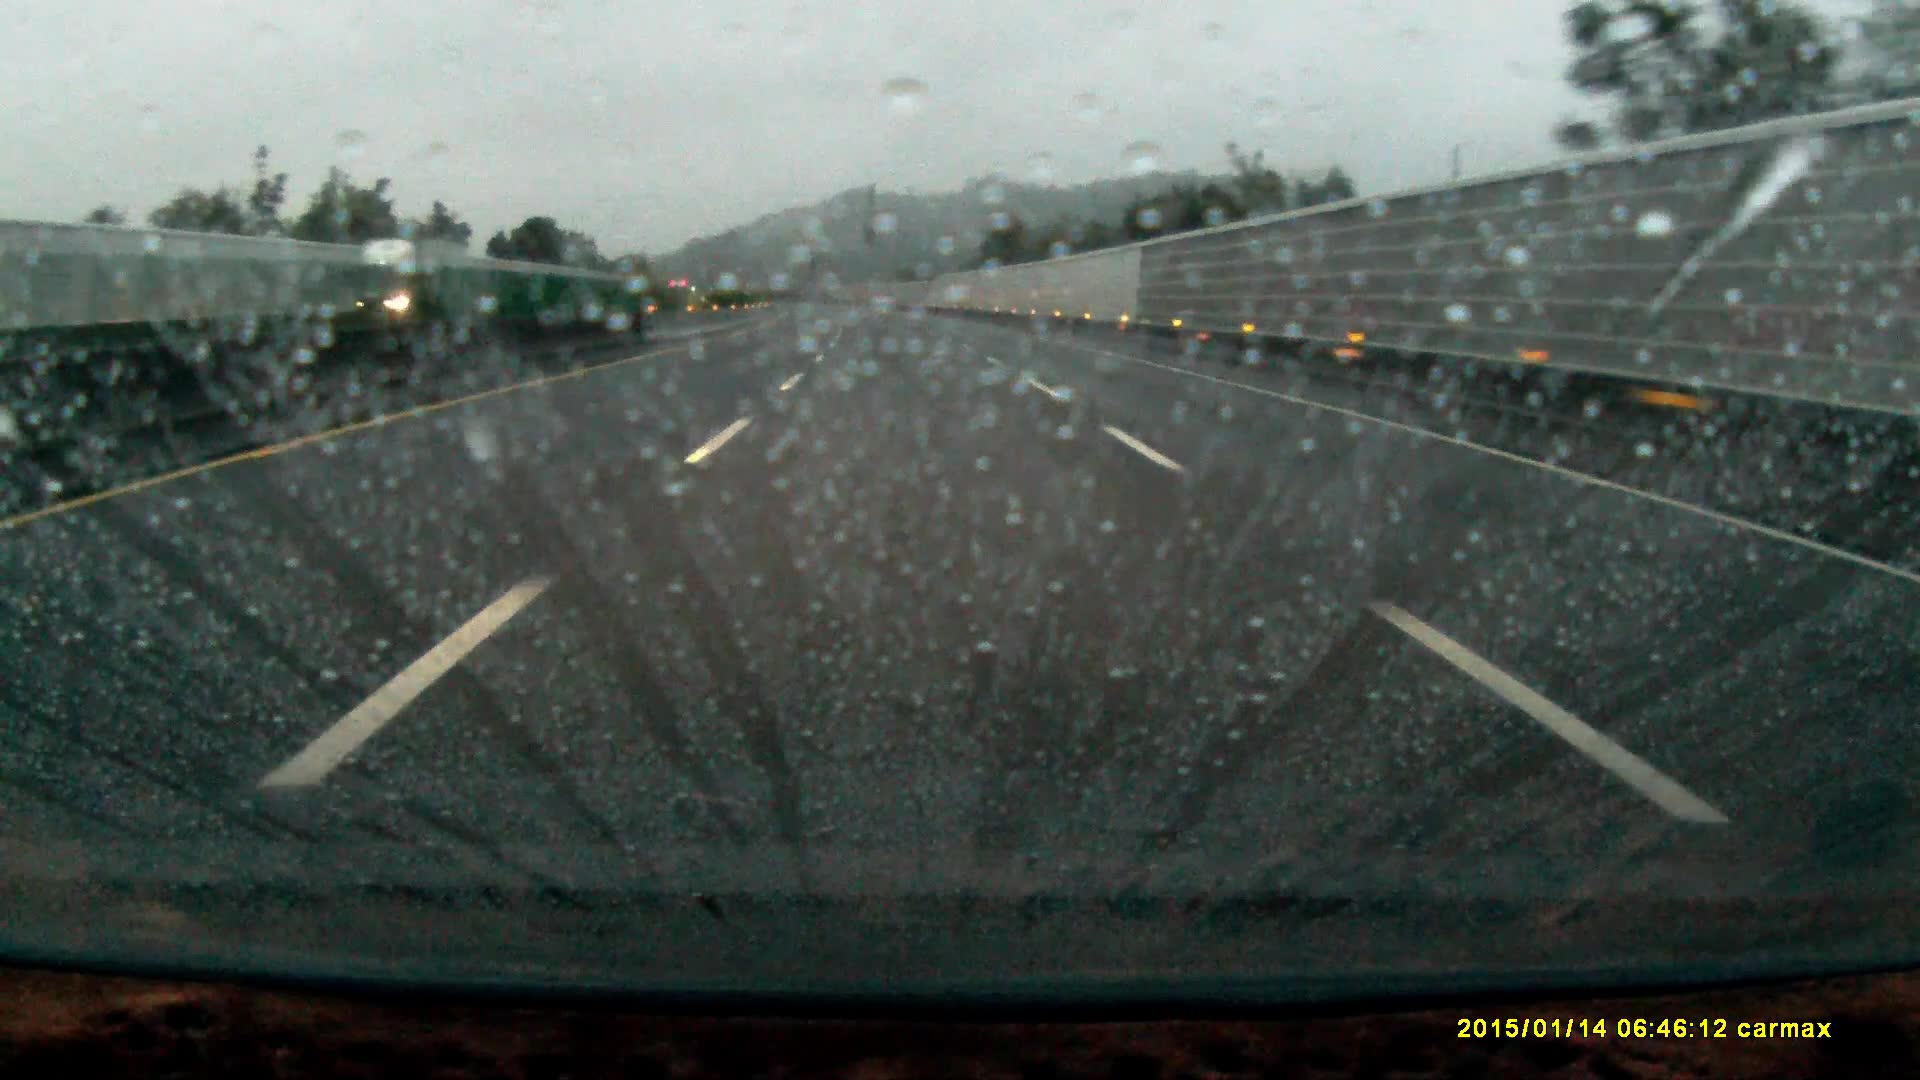vehicle: (357, 233, 462, 324)
